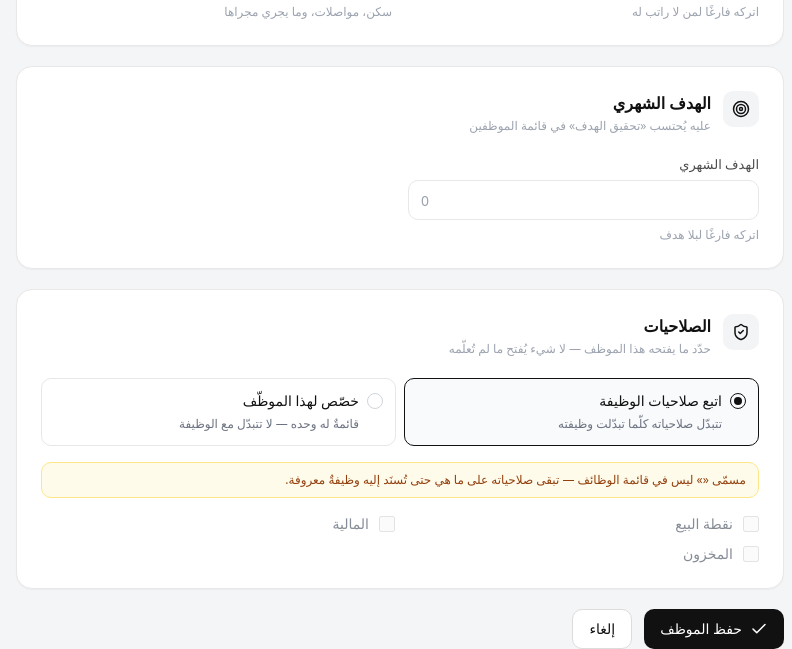
Test: الموظّفُ الجديد يُفتح على وظيفته › يفتح بابَ التخصيص لمن اشتراه
The image size is (792, 649).
(page scrolled)
Expected: the button "خصّص لهذا الموظّف" is enabled, [41,378,396,446]
What coordinates should you click on to do the following:
click the text "خصّص لهذا الموظّف"
I would click on:
 (301, 401)
Its box is [243,391,359,411].
(page scrolled)
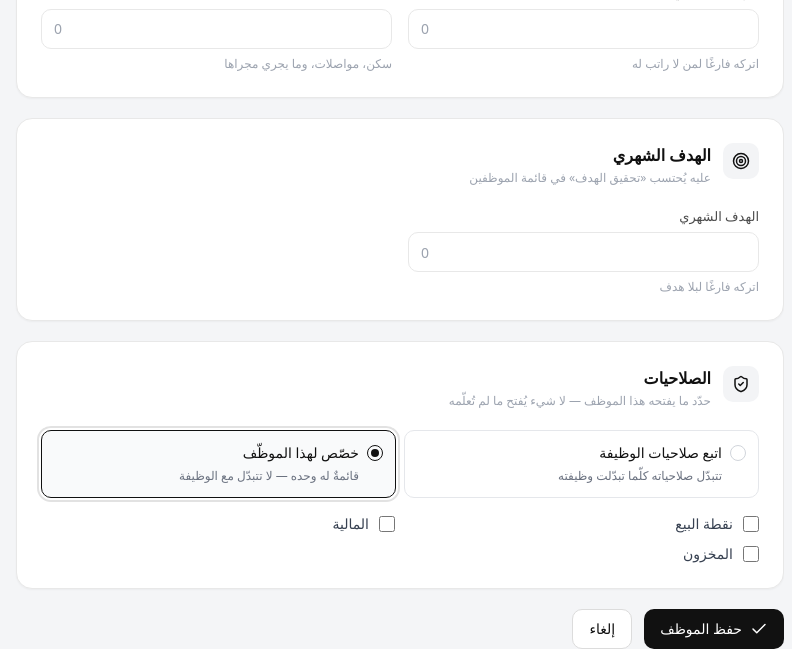
Now the checkbox labelled "المالية" is enabled, box [379,516,395,532]
